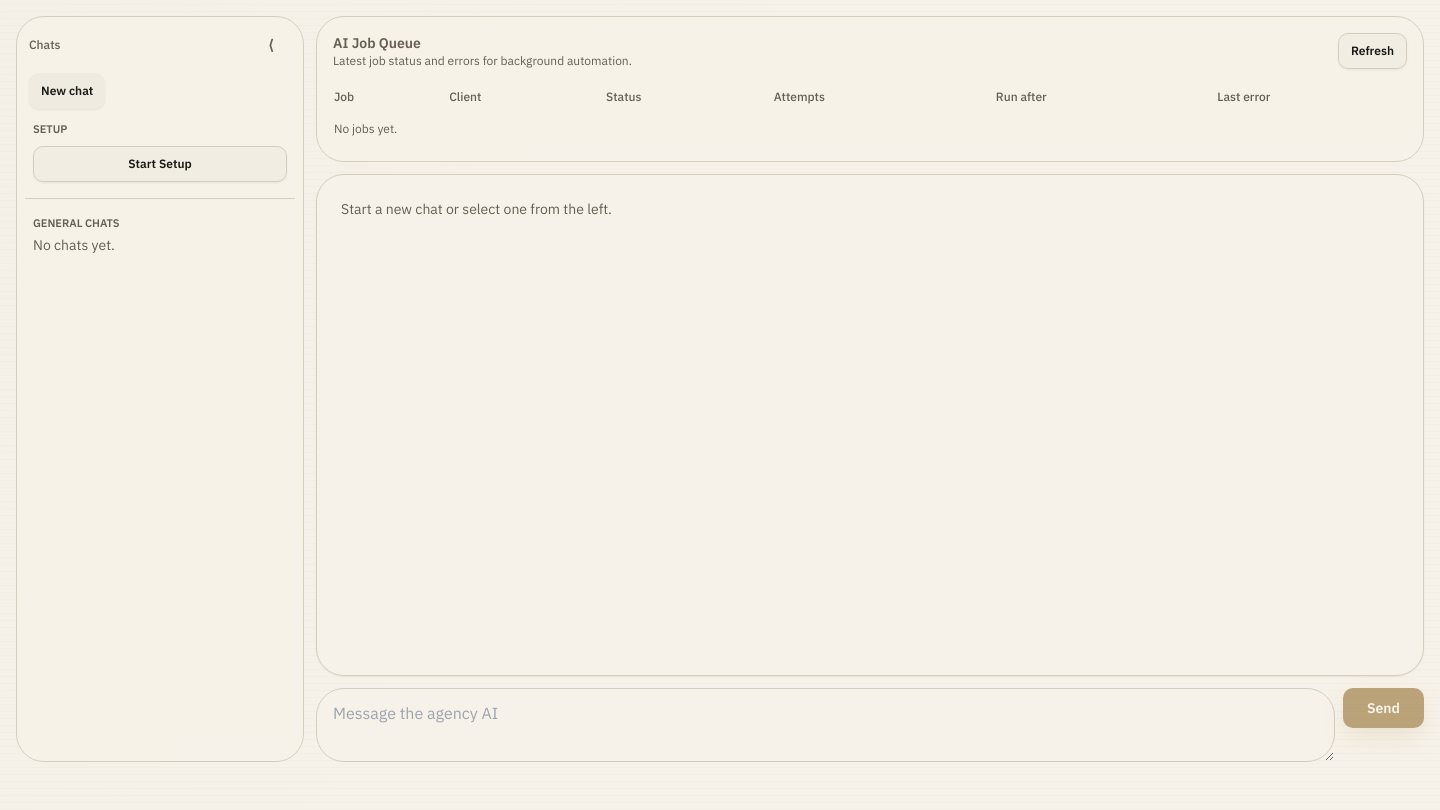
Scenario: AgencyAiAdmin › renders the shared workflow blocker when agency AI activation is required
Click the button "New chat".
click(67, 91)  # box x1=29 y1=73 x2=105 y2=109
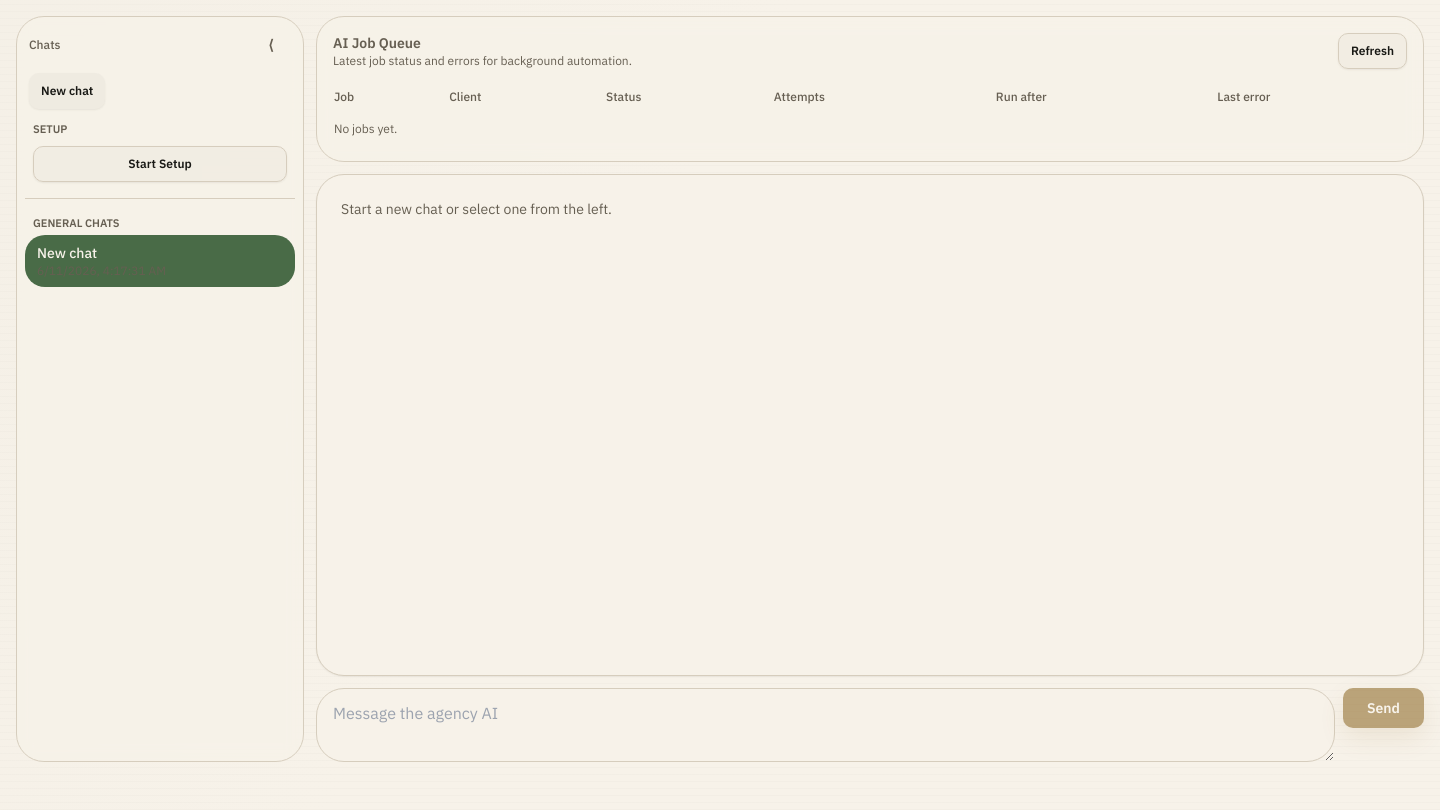
Type "Help me review ops blockers" into the text box with placeholder "Message the agency AI".
click(826, 725); type("Help me review ops blockers")  # box x1=316 y1=688 x2=1335 y2=762
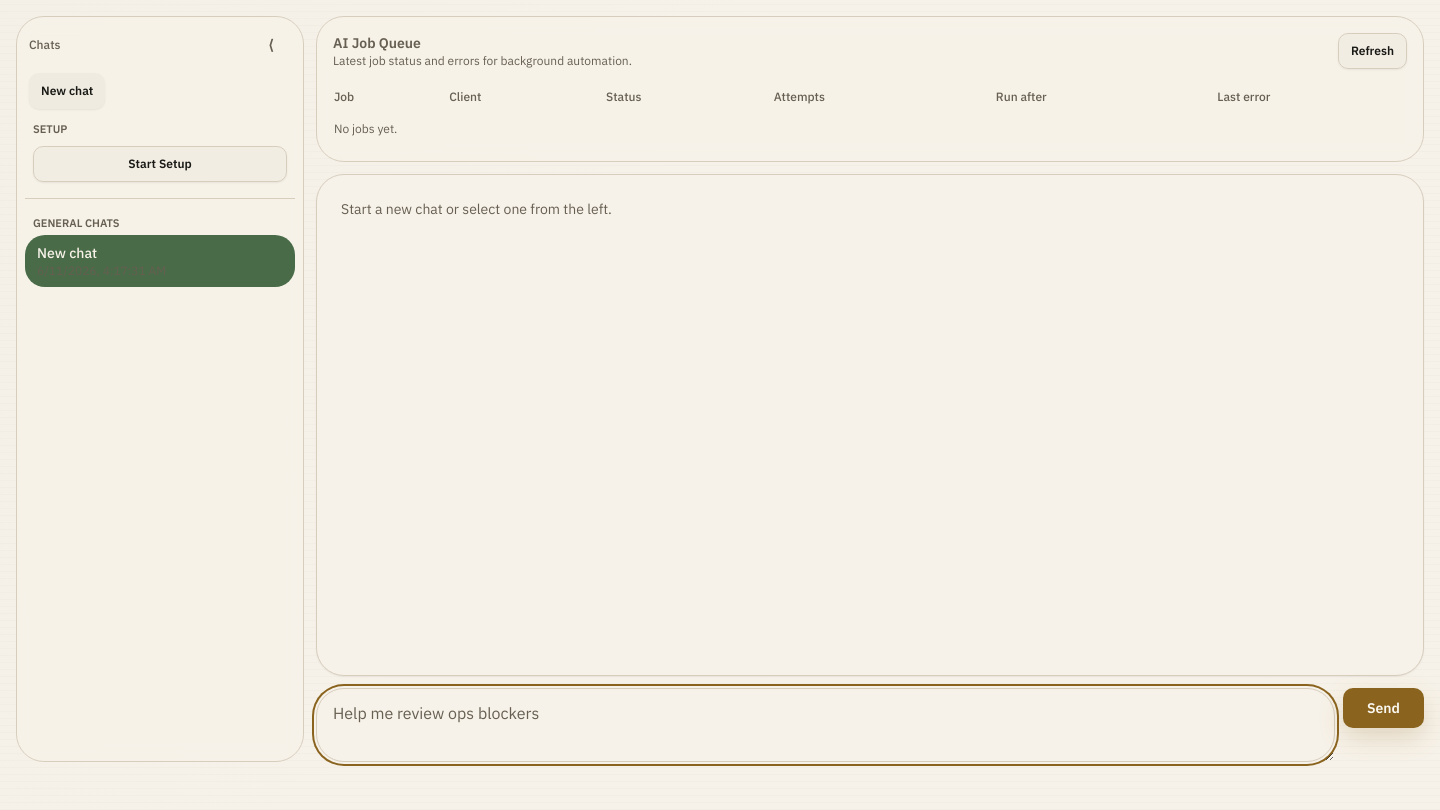
Click the button "Send".
click(1384, 708)  # box x1=1343 y1=688 x2=1424 y2=728
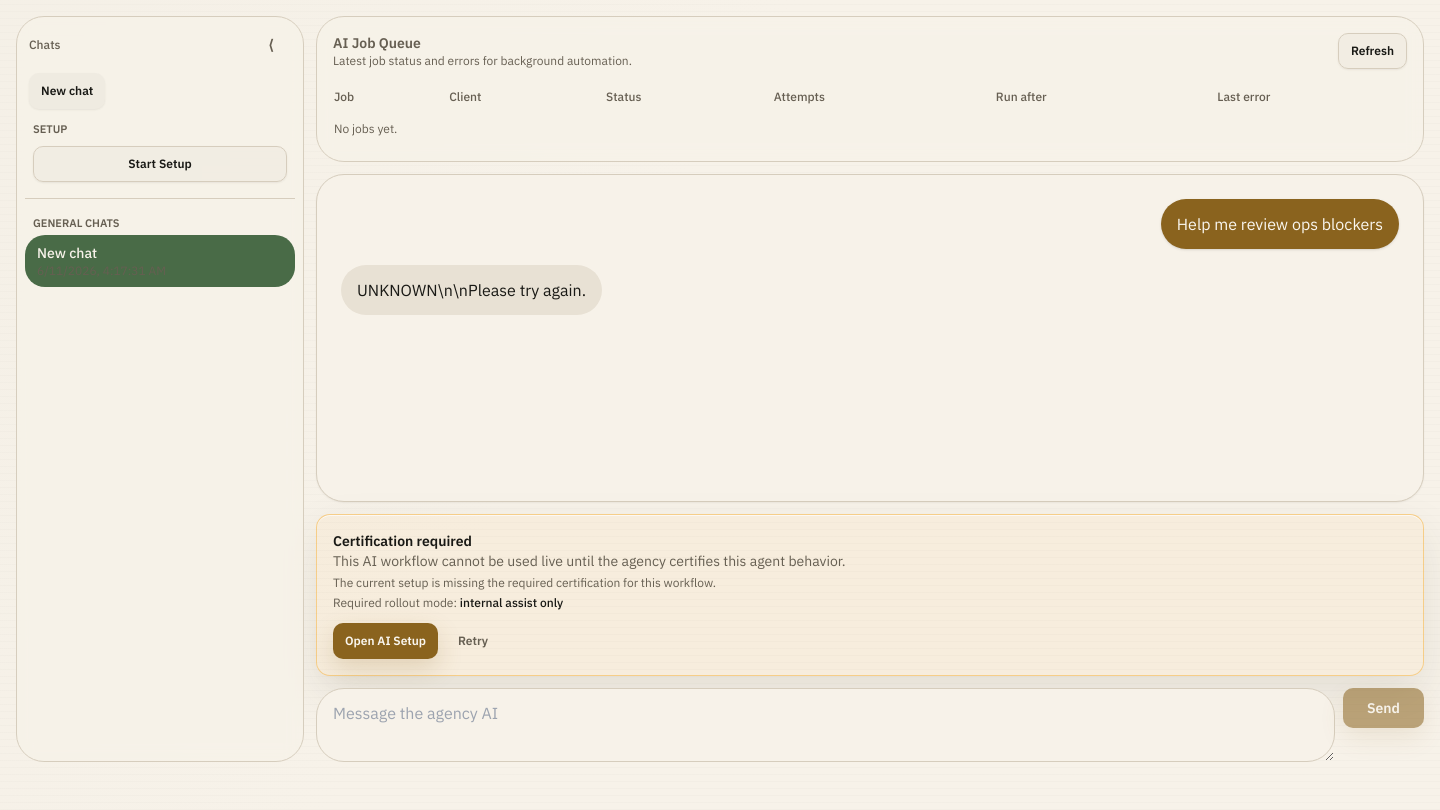
Expected: the text "Certification required" is shown, x1=333 y1=532 x2=472 y2=550
Expected: the text "This AI workflow cannot be used live until the agency certifies this agent behavior." is shown, x1=333 y1=552 x2=846 y2=570
Expected: the text "Required rollout mode:" is shown, x1=333 y1=595 x2=457 y2=610
